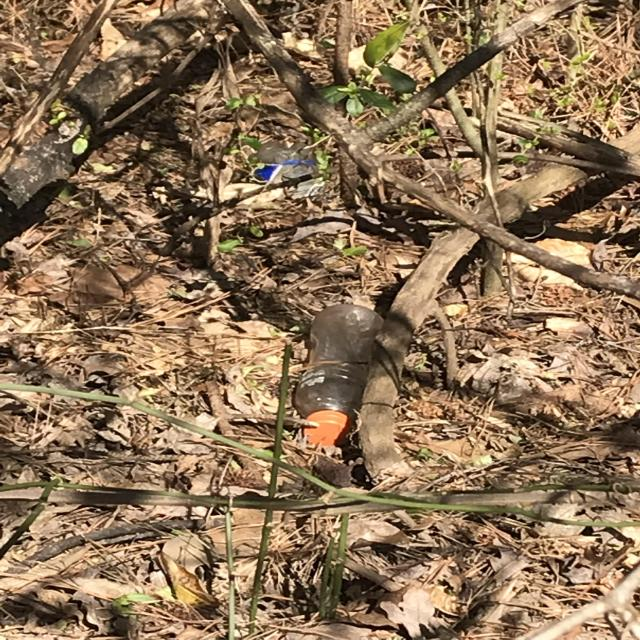litter: (299, 309, 385, 449), (259, 141, 315, 182)
